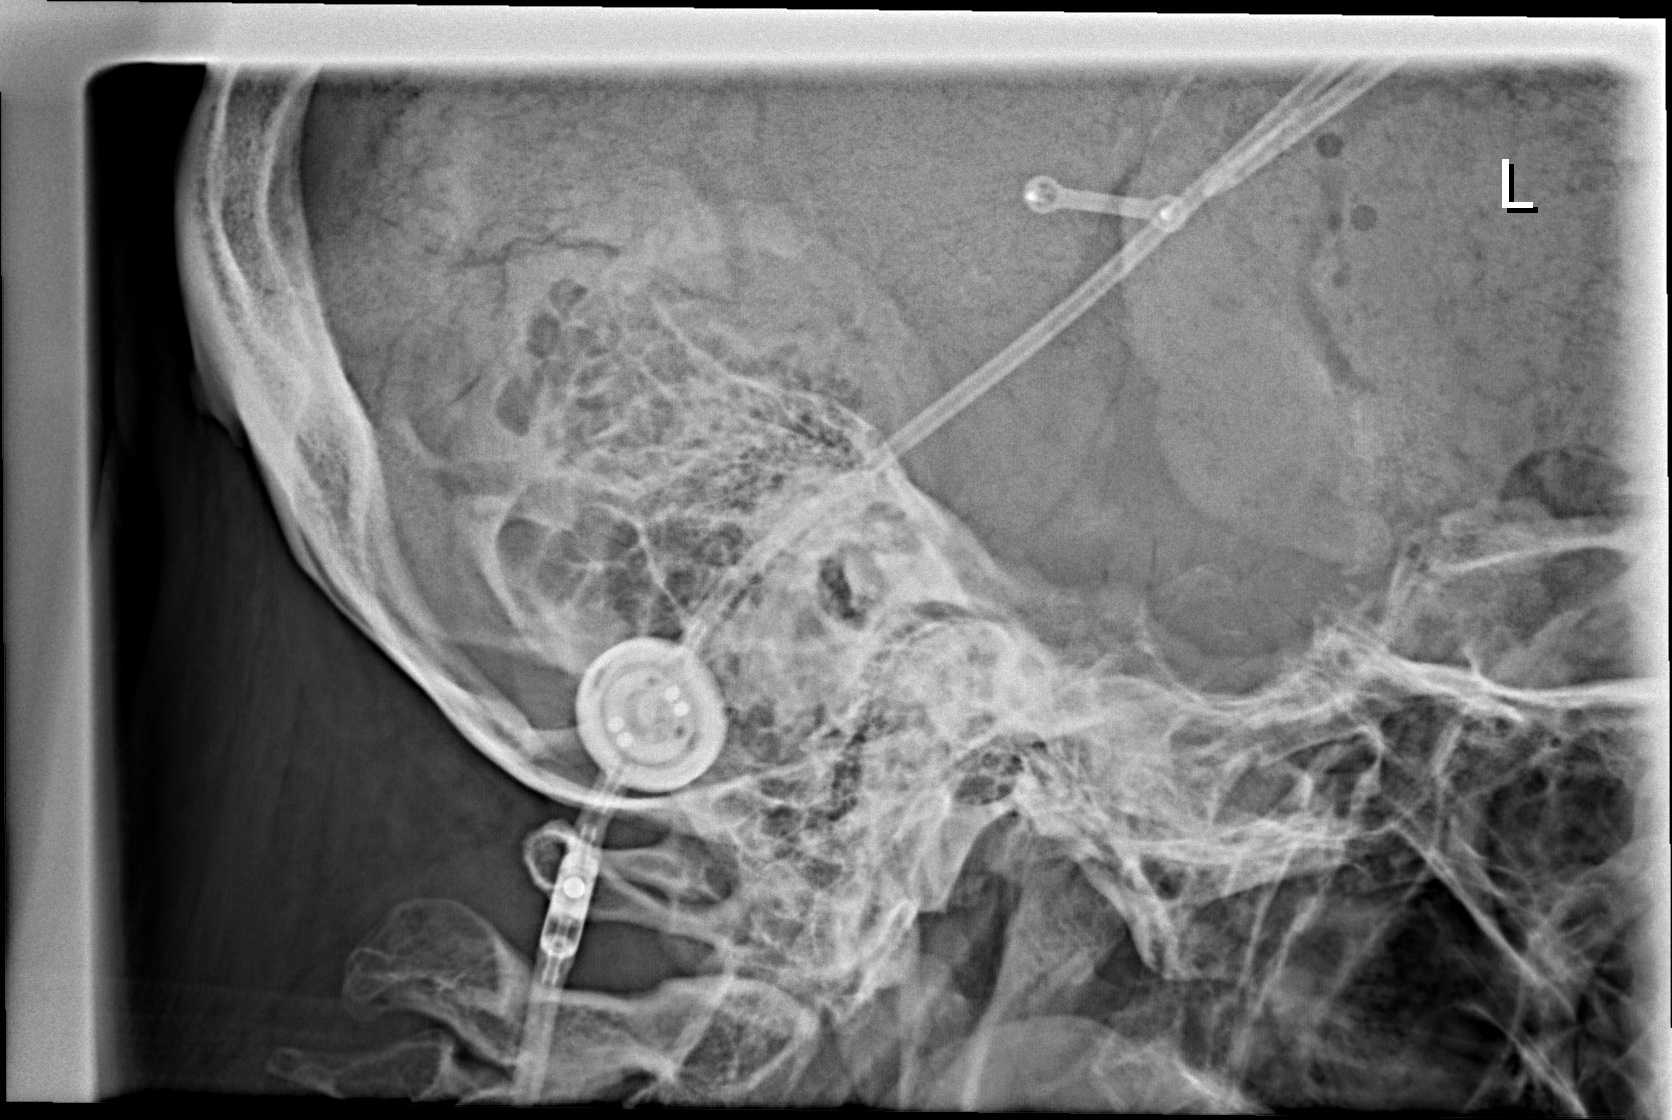proGAV 2.0: (570, 634, 729, 804)
proGAV Gravitationseinheit: (531, 831, 607, 971)
